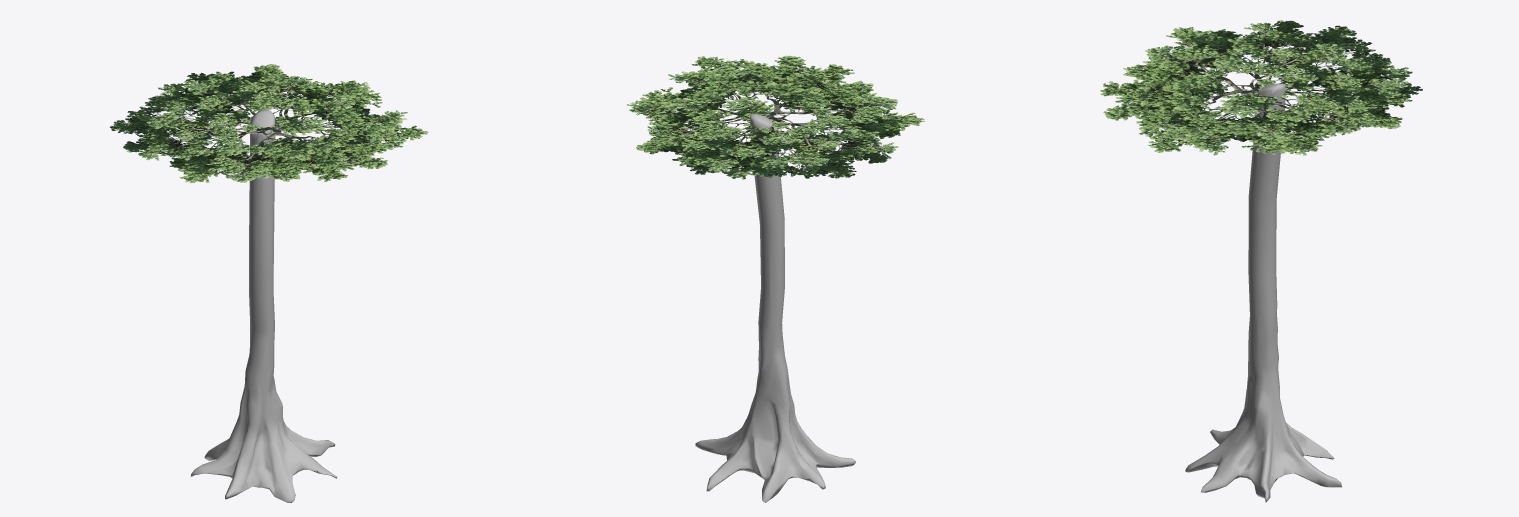
Rendered from Tree1Leaves.fbx.
3 renders of one model, left to right at view 1: azimuth 30°, elevation 25°; view 2: azimuth 150°, elevation 25°; view 3: azimuth 270°, elevation 25°, orthographic. The views are drawn at different scales.
Parts seen in each view (by area): view 1: Tree1UV_low; view 2: Tree1UV_low; view 3: Tree1UV_low.
Boxes of the visible parts, x1,y1,x2,y2 form: Tree1UV_low: [109, 64, 428, 502]; Tree1UV_low: [627, 55, 925, 502]; Tree1UV_low: [1100, 20, 1422, 502].
Bounding box in the file's own units: 6647 × 8352 × 8862.
